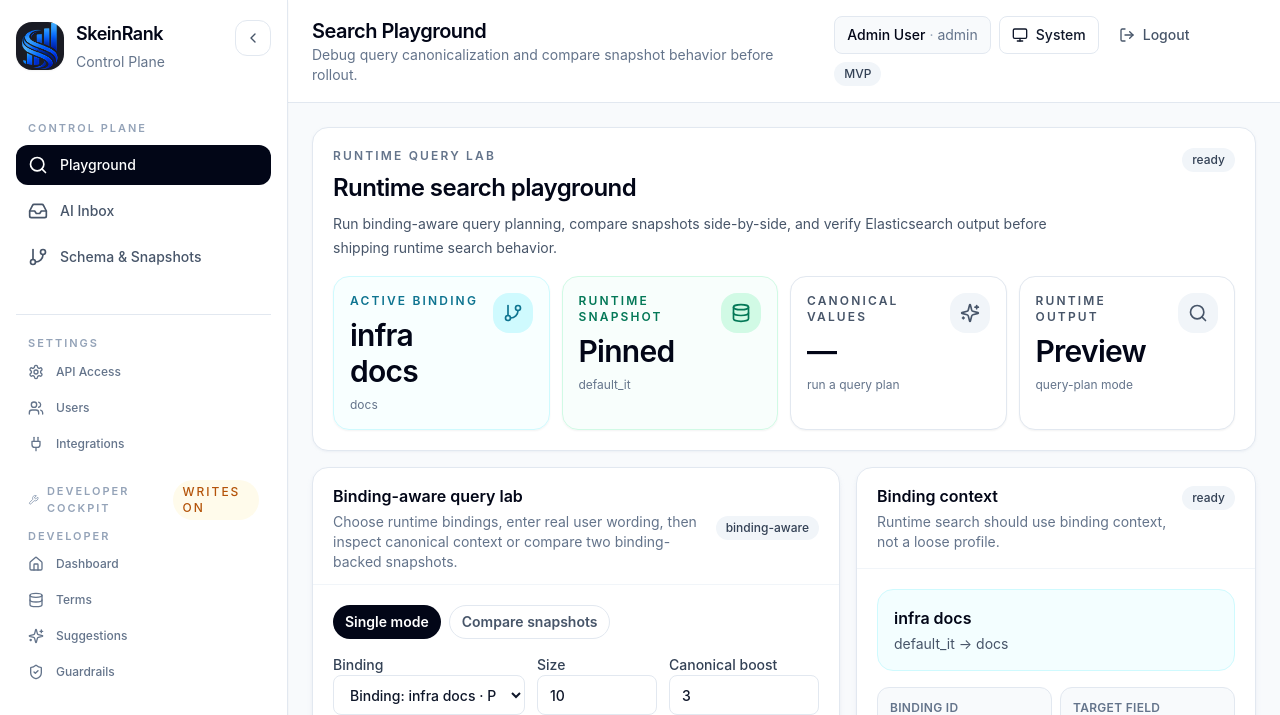
Scenario: App › renders the governance console with profiles and terms
Expected: the heading "Search Playground" is shown, 312,19 -> 486,43
Expected: the navigation bar named "Primary product navigation" shows "Playground", 16,144 -> 271,184
Click the button "Terms" at [144, 600], box 16,584 -> 271,616
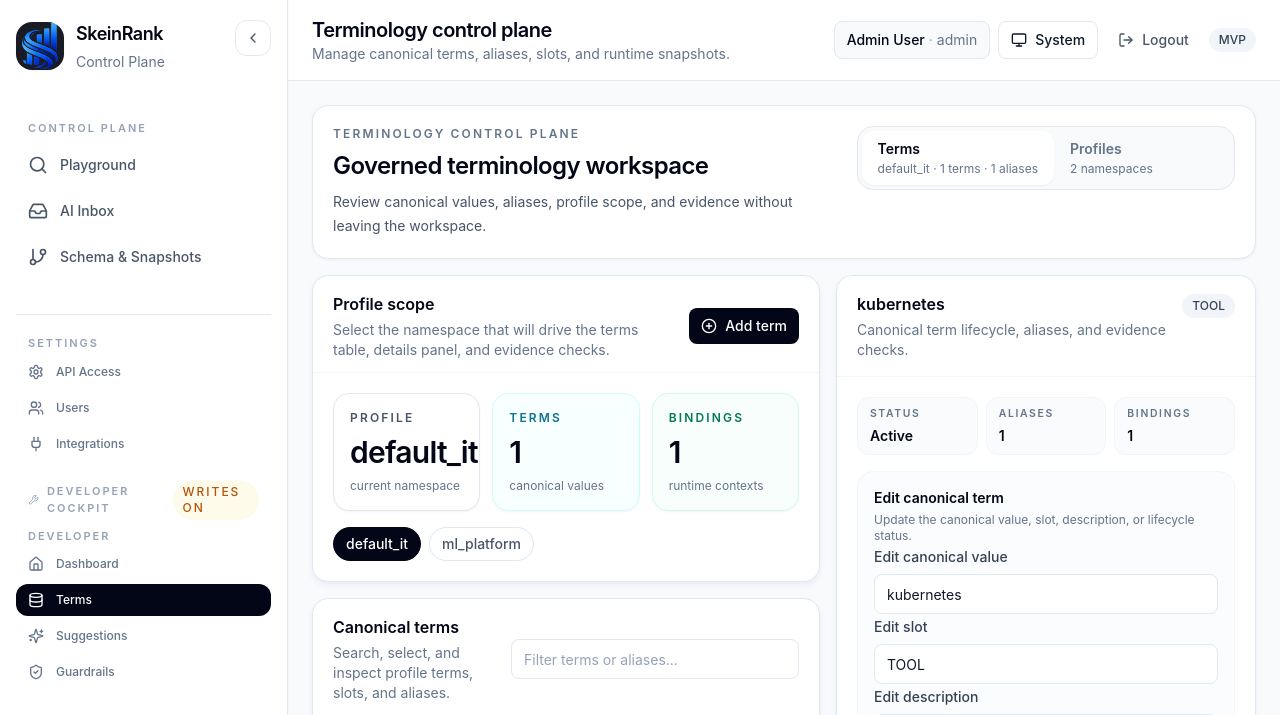
Now the heading "Terminology control plane" is shown, box 312,18 -> 552,42
Now the heading "Governed terminology workspace" is shown, box 333,151 -> 708,180
Now the tab "Terms default_it · 1 terms · 1 aliases" is shown, box 862,131 -> 1054,185
